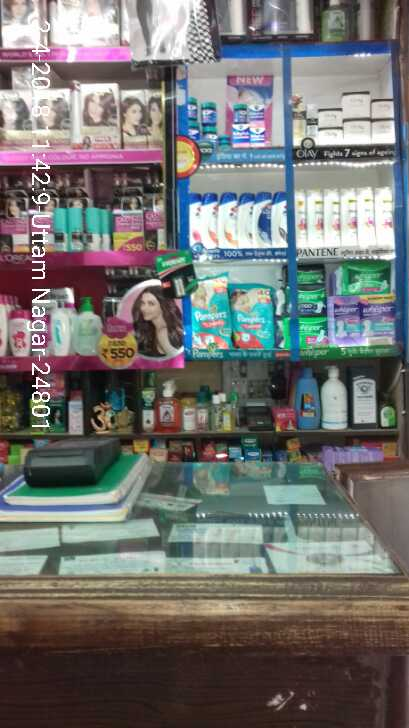vicks: (185, 95, 264, 147)
